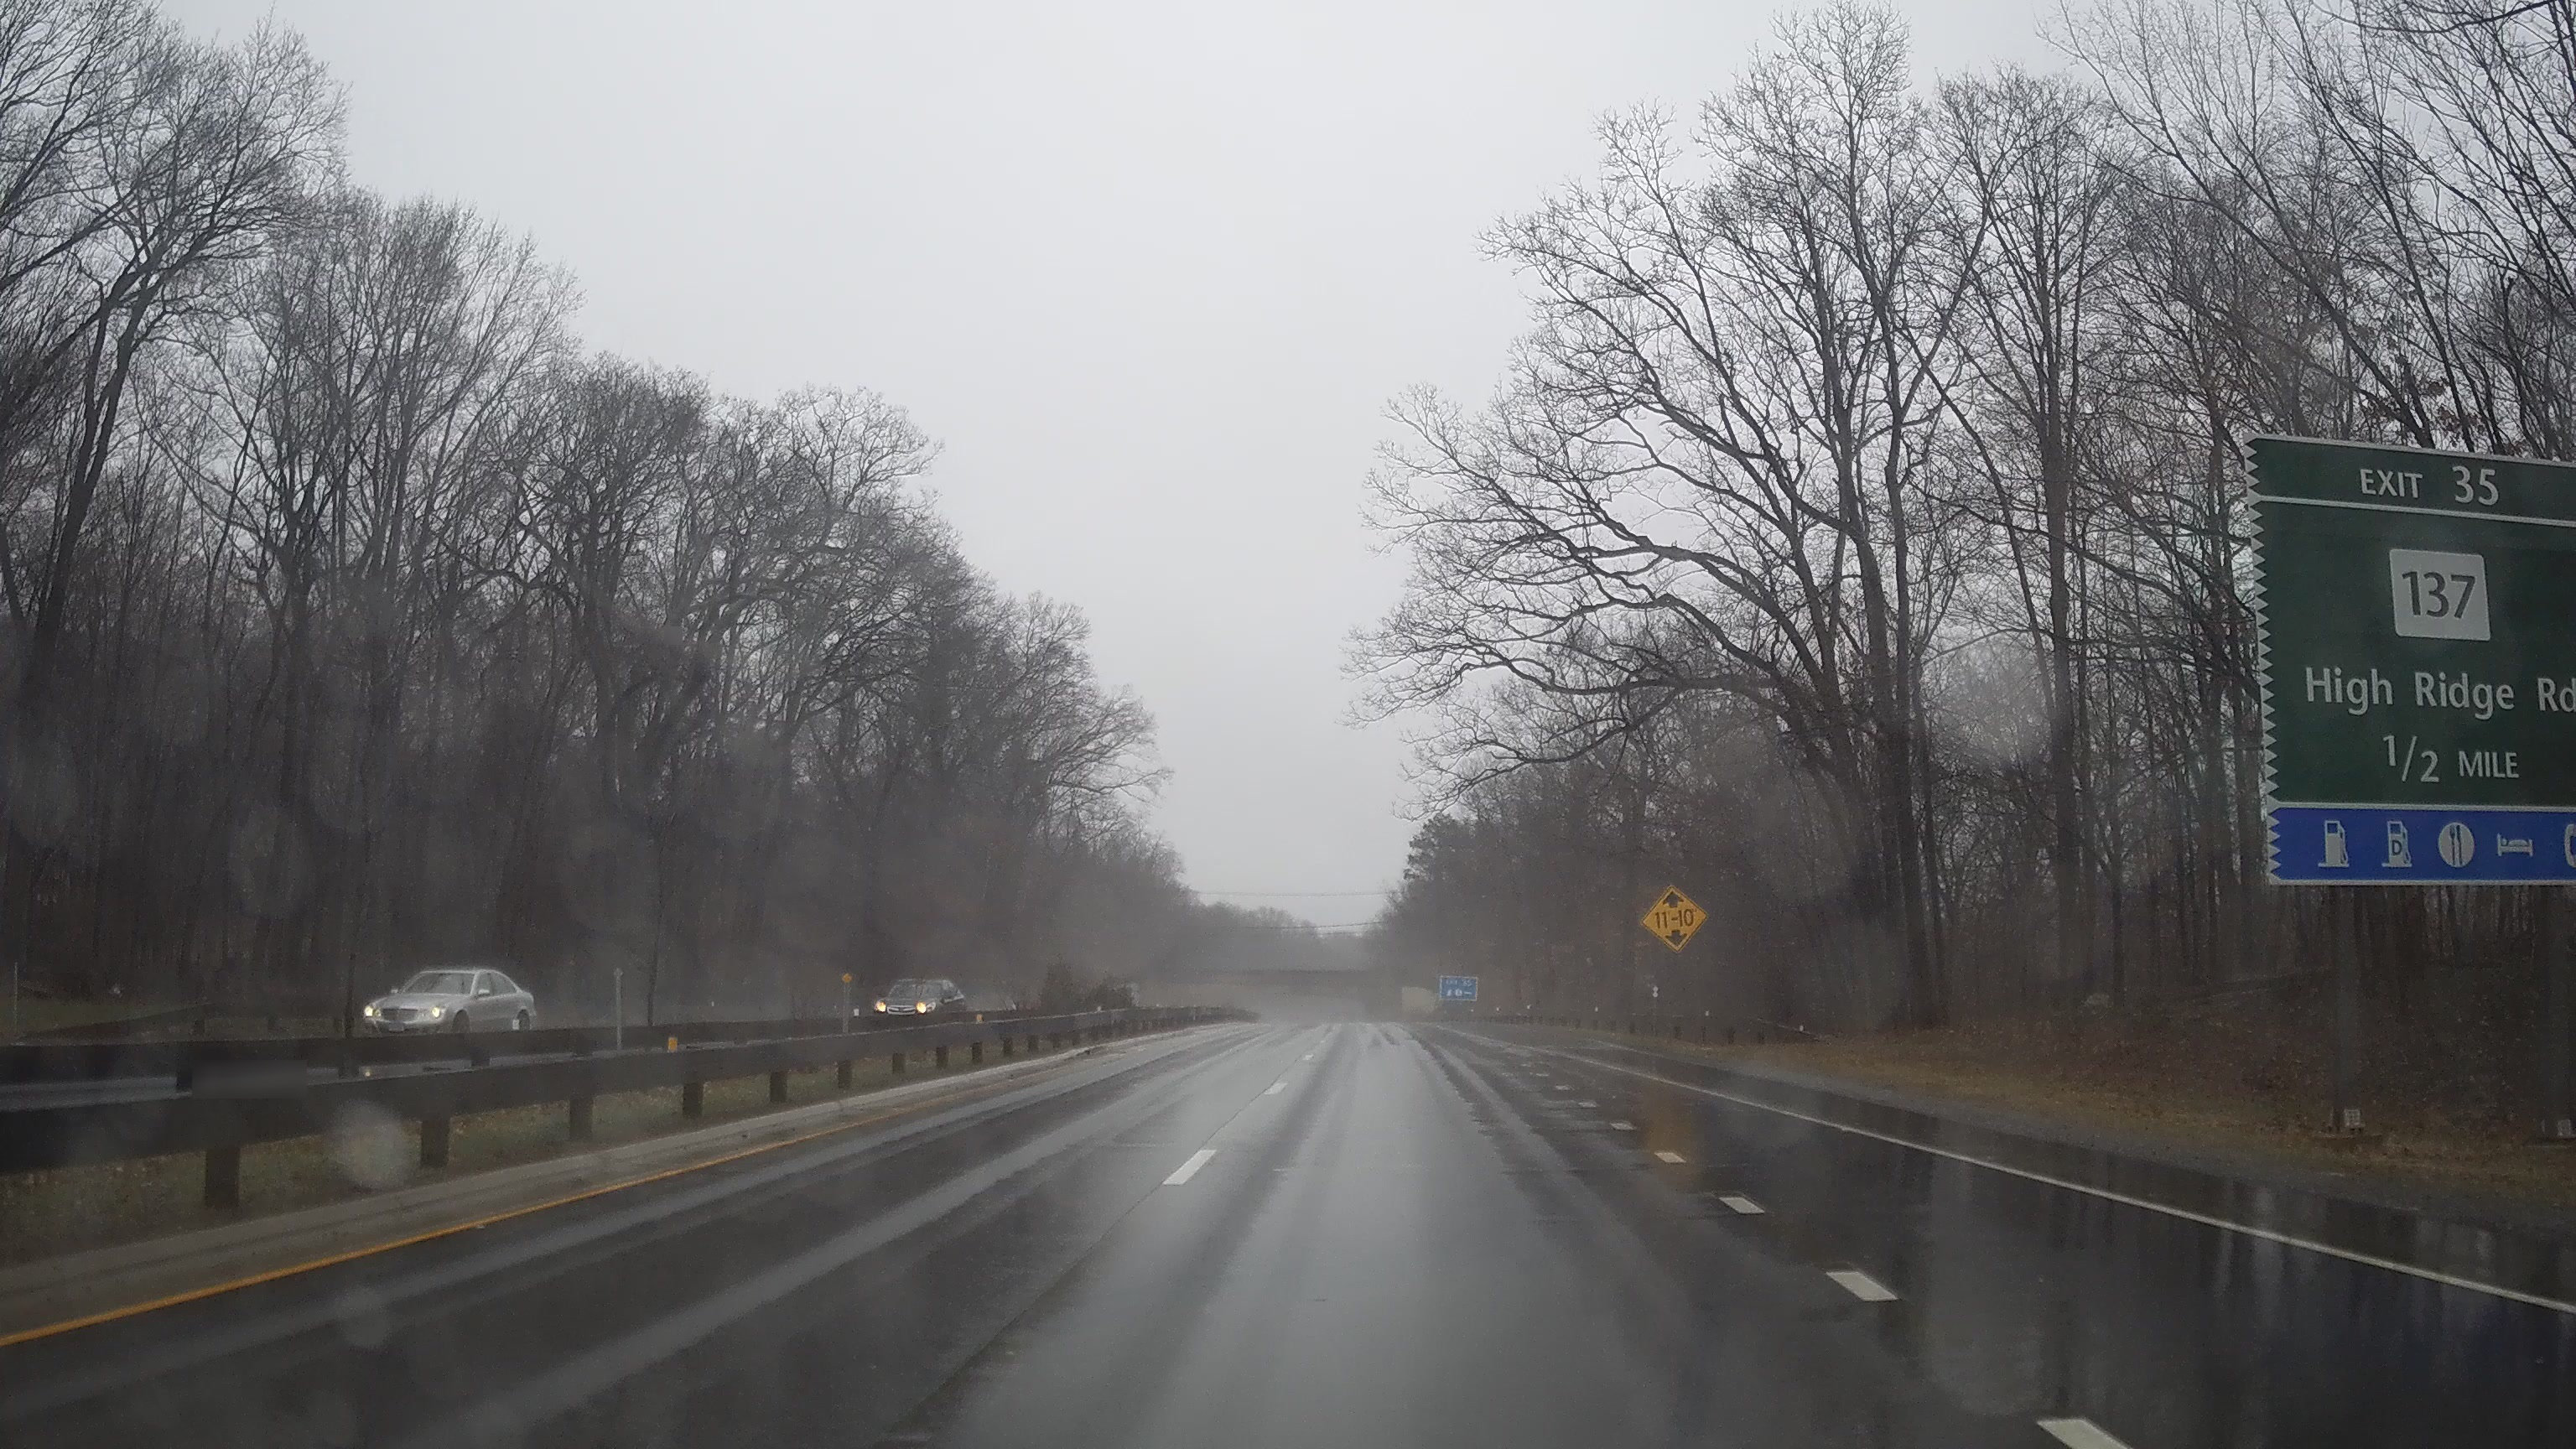low-clearance-sign: (1640, 885, 1709, 954)
